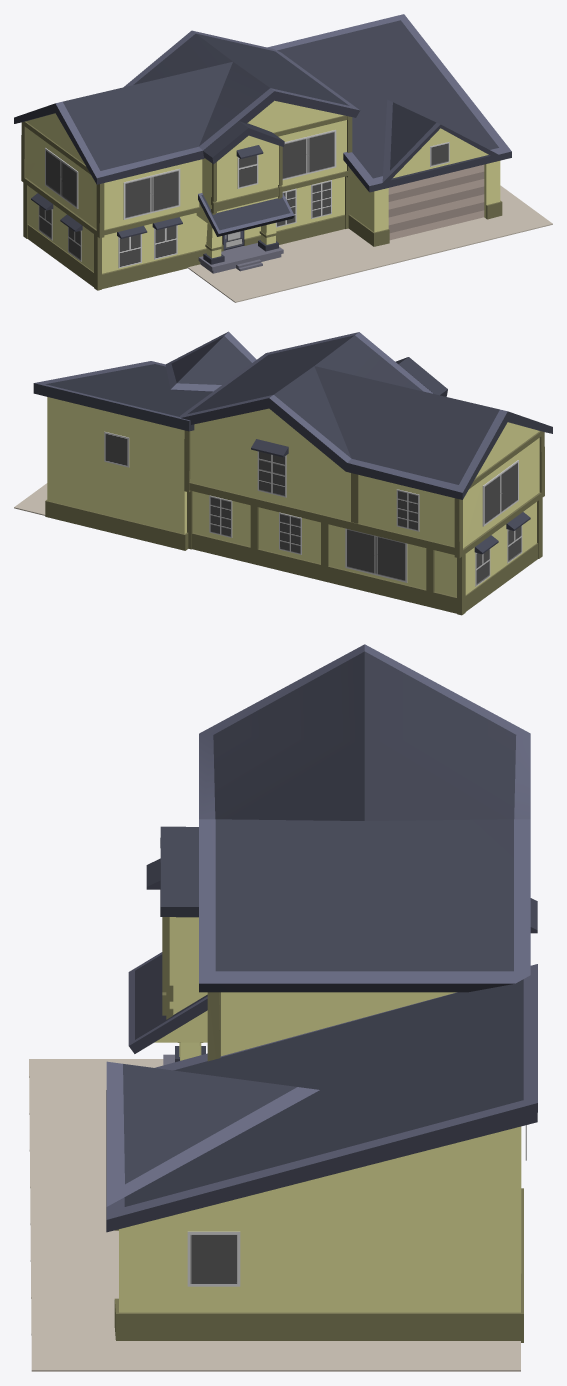
Rendered from house02_color03.fbx.
3 views of the same model, one above another, from view 1: azimuth 30°, elevation 25°; view 2: azimuth 150°, elevation 25°; view 3: azimuth 270°, elevation 25° (orthographic). The views are drawn at different scales.
Parts seen in each view (by area): view 1: Cube.402, Cube.403; view 2: Cube.402, Cube.403; view 3: Cube.402, Cube.403.
Boxes of the visible parts, box(x1,y1,x2,y2) form: Cube.402: box(14, 14, 511, 290); Cube.403: box(188, 185, 552, 302); Cube.402: box(33, 331, 552, 615); Cube.403: box(14, 483, 47, 515); Cube.402: box(106, 644, 537, 1342); Cube.403: box(29, 1059, 520, 1371).
Size of the model in its own units: 2465 by 917 by 1310.
